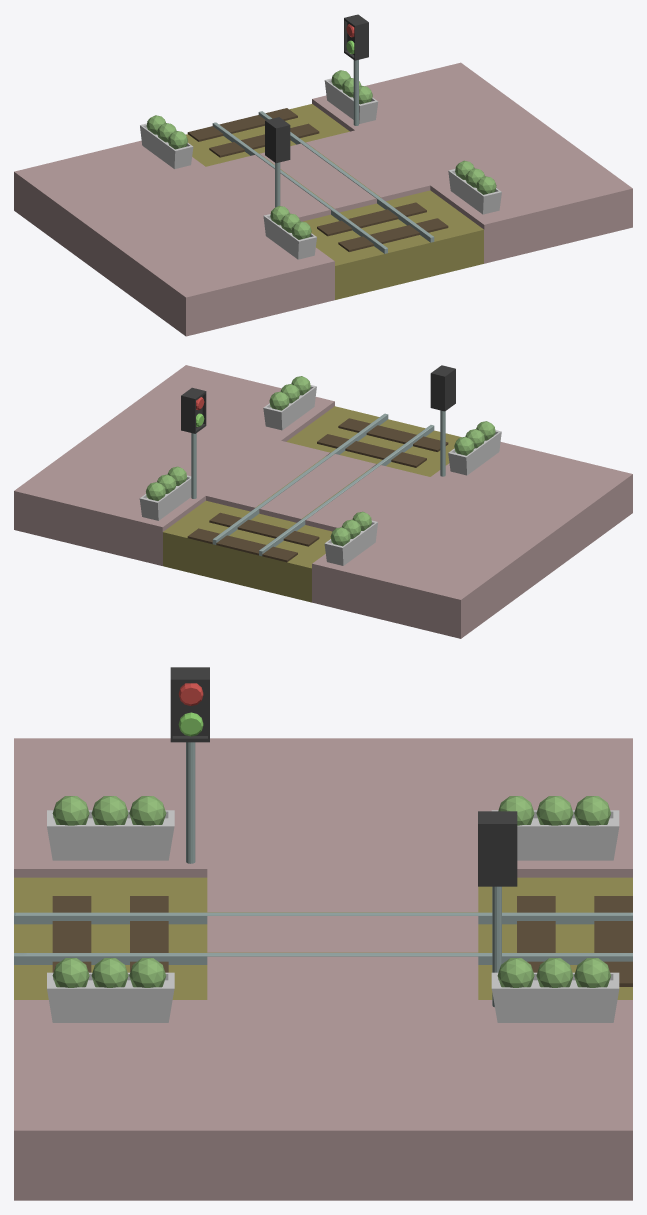
File: railroad_passage.fbx
The picture shows the model from 3 angles, top to bottom: view 1: azimuth 30°, elevation 25°; view 2: azimuth 150°, elevation 25°; view 3: azimuth 270°, elevation 25°; orthographic projection. The views are drawn at different scales.
Visible parts, largest first — view 1: Cube.020; view 2: Cube.020; view 3: Cube.020.
Boxes of the visible parts, x1,y1,x2,y2 form: Cube.020: (14,14,632,336); Cube.020: (14,365,632,638); Cube.020: (14,667,632,1200).
Size of the model in its own units: 2400 by 737 by 1600.
